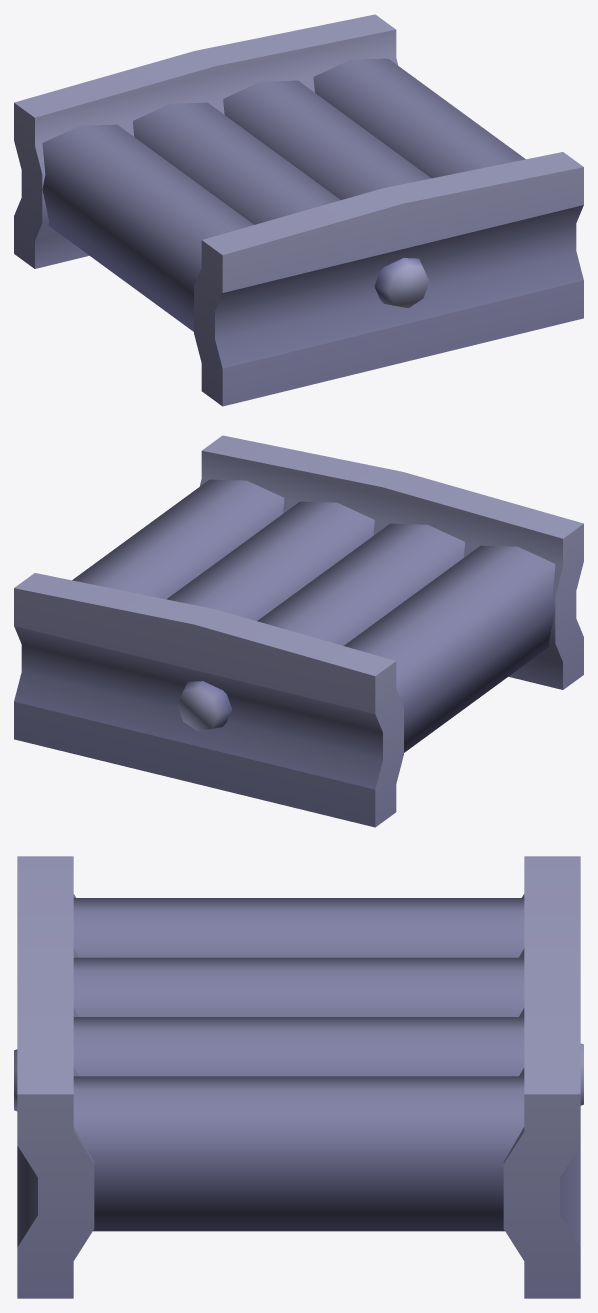
Rendered from kenney-factory-conveyor-bars-high.glb.
3 renders of one model, top to bottom at view 1: azimuth 30°, elevation 25°; view 2: azimuth 150°, elevation 25°; view 3: azimuth 270°, elevation 25°, orthographic. The views are drawn at different scales.
Parts seen in each view (by area): view 1: conveyor-bars-high; view 2: conveyor-bars-high; view 3: conveyor-bars-high.
Boxes of the visible parts, x1,y1,x2,y2 form: conveyor-bars-high: (14, 14, 583, 406); conveyor-bars-high: (14, 435, 583, 827); conveyor-bars-high: (14, 856, 583, 1298).
Size of the model in its own units: 1.5 by 0.63 by 1.52.
1 material, 1 textured.
